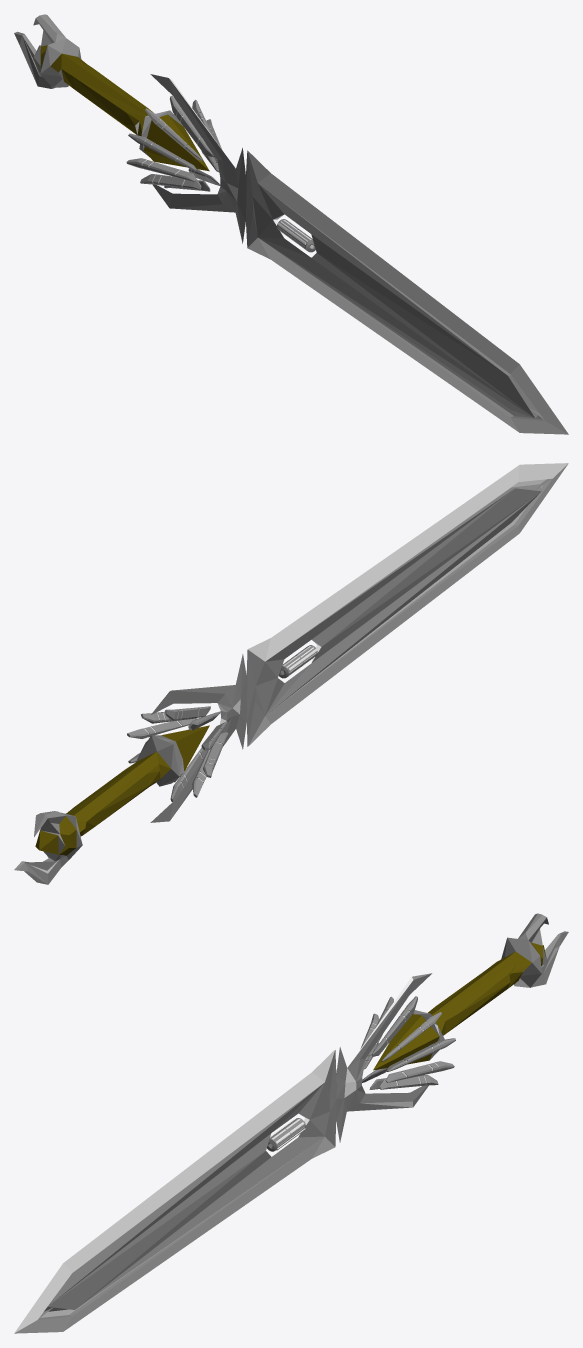
The model's file is Sword 4_1.fbx.
The picture shows the model from 3 angles, top to bottom: view 1: azimuth 30°, elevation 25°; view 2: azimuth 150°, elevation 25°; view 3: azimuth 330°, elevation 25°; orthographic projection.
Visible parts, largest first — view 1: Lame, Garde, Cylinder; view 2: Lame, Garde, Cylinder; view 3: Lame, Garde, Cylinder.
Boxes of the visible parts, x1,y1,x2,y2 form: Lame: (14,14,568,434); Garde: (126,95,221,191); Cylinder: (277,219,315,252); Lame: (14,463,568,884); Garde: (127,706,228,801); Cylinder: (279,645,317,678); Lame: (14,913,568,1333); Garde: (360,996,455,1089); Cylinder: (267,1118,305,1151).
Bounding box in the file's own units: 97.39 × 144 × 1106.
